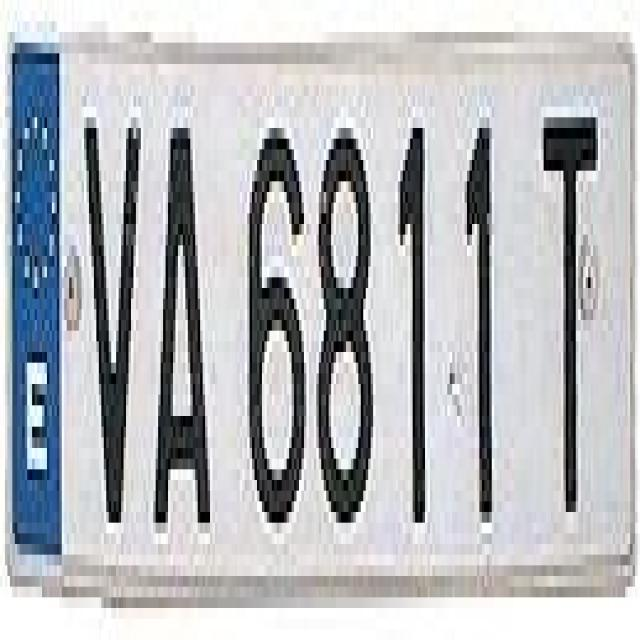EU: (9, 23, 635, 596)
Espagne: (13, 53, 60, 573)
